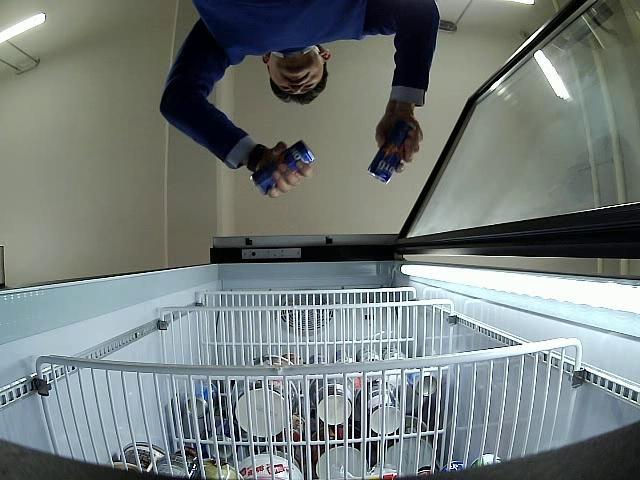16_hot6: (366, 116, 420, 184), (250, 139, 314, 196)
